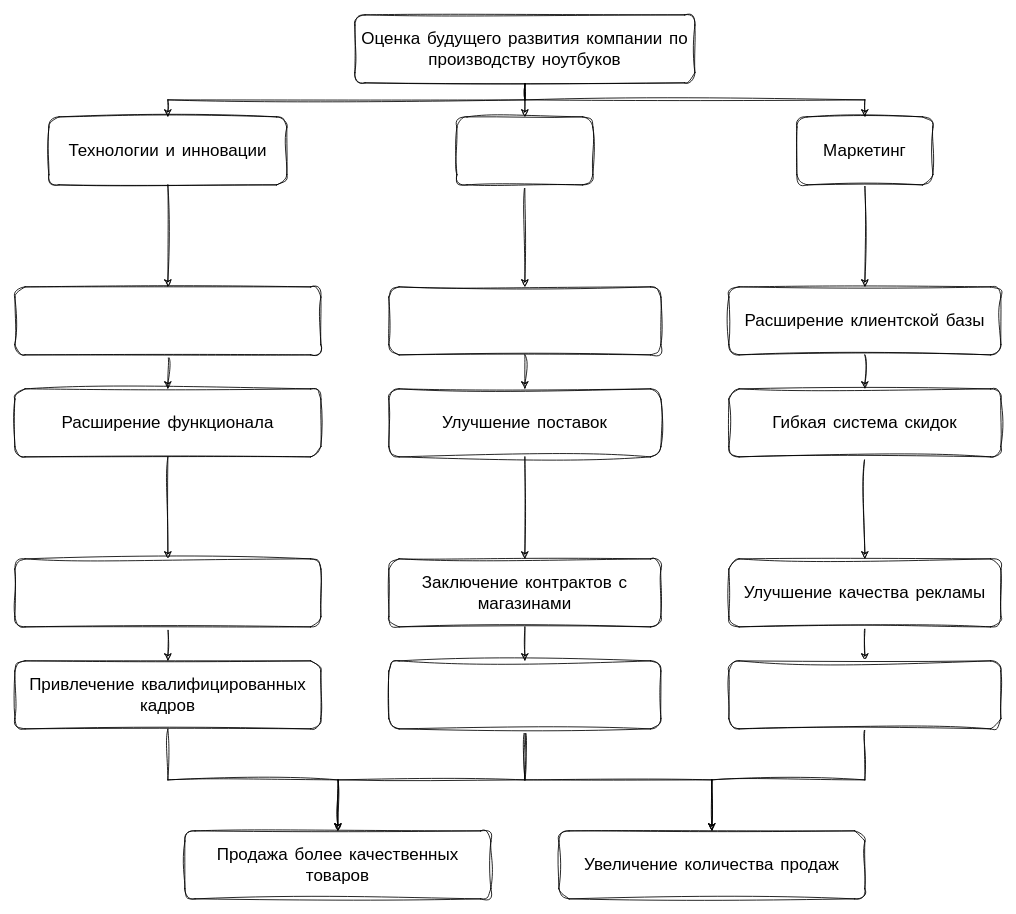
Some shapes in this 1016 by 914 pixel diagram are drawn without their labels. Here are the shapes that lost their labels. From the top down, the centre of each, then its label:
At (x=524, y=150): "Логистика".
At (x=167, y=320): "Внедрение более совершенных технологий".
At (x=524, y=320): "Расширение географии".
At (x=167, y=592): "Использование новых процессоров".
At (x=524, y=694): "Договор со службами доставки".
At (x=864, y=694): "Новые стратегии привлечения клиентов".
